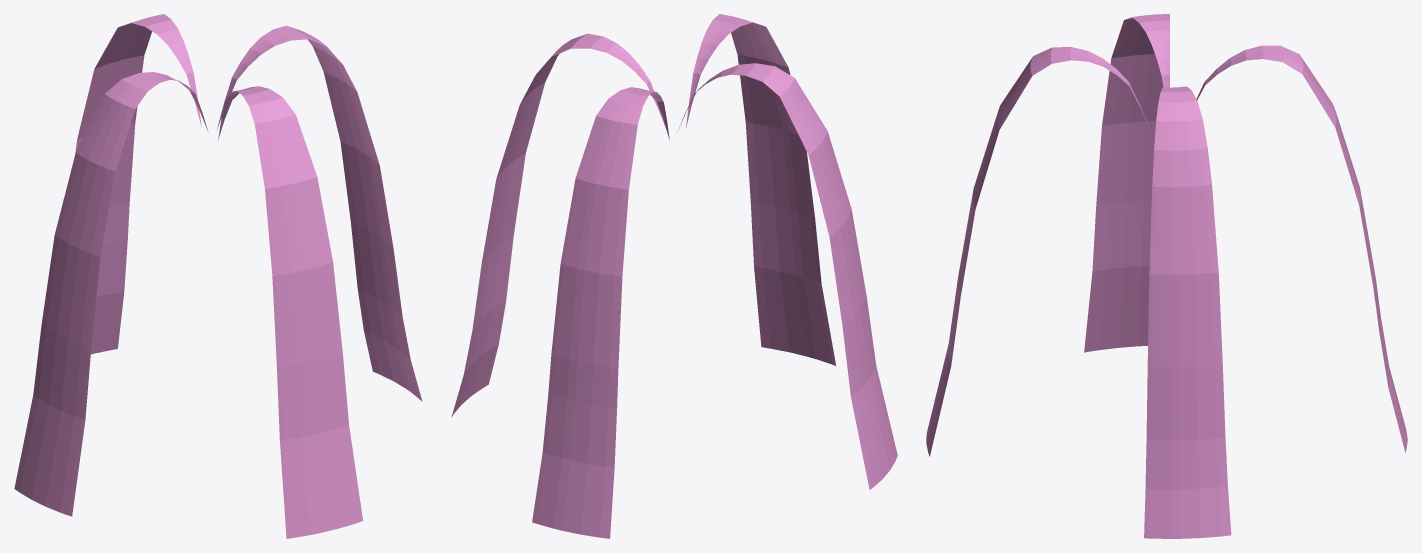
File: agua.fbx
3 renders of one model, left to right at view 1: azimuth 30°, elevation 25°; view 2: azimuth 150°, elevation 25°; view 3: azimuth 270°, elevation 25°, orthographic.
Parts seen in each view (by area): view 1: agua_uvs; view 2: agua_uvs; view 3: agua_uvs.
Part boxes in pixels (x1,y1,x2,y2): agua_uvs: (14,14,422,538); agua_uvs: (451,14,897,538); agua_uvs: (926,14,1407,538).
Size of the model in its own units: 63.72 by 59.2 by 66.91.
